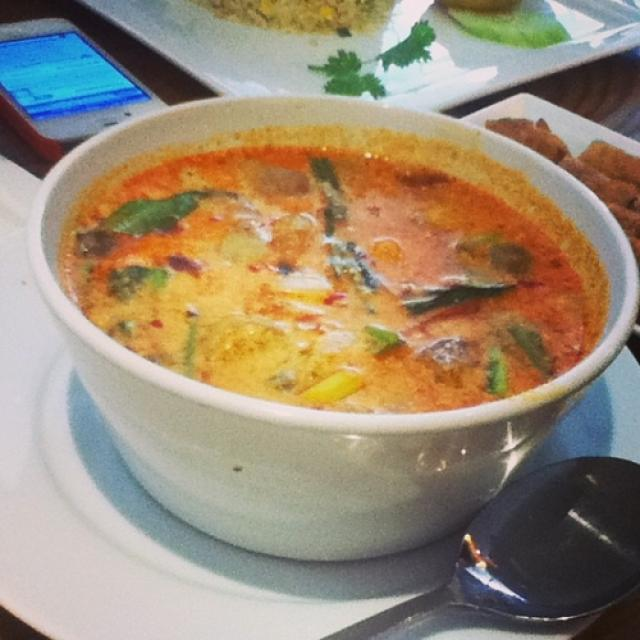汤锅炖物: (27, 74, 623, 496)
